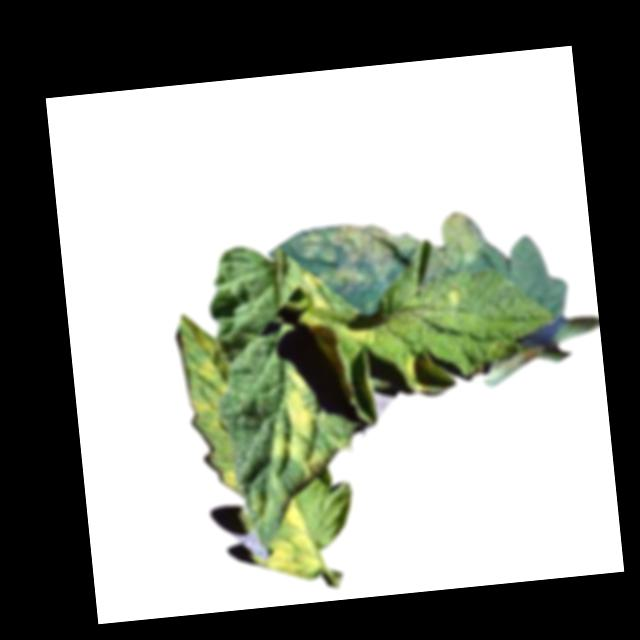Leaf_Mold: (295, 206, 494, 302), (173, 309, 237, 457), (262, 360, 333, 483), (298, 269, 378, 356), (258, 497, 322, 586), (403, 339, 458, 399), (218, 467, 240, 495)
